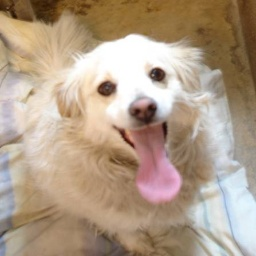dog: (2, 19, 230, 256)
